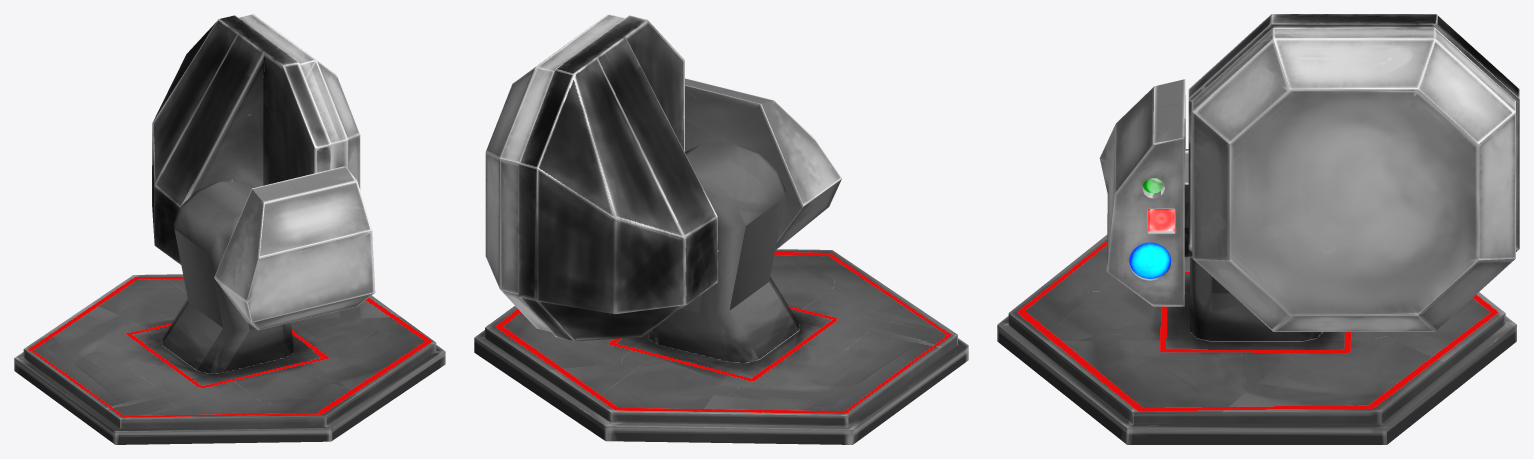
Rendered from antenna.fbx.
3 views of the same model, side by side, from view 1: azimuth 30°, elevation 25°; view 2: azimuth 150°, elevation 25°; view 3: azimuth 270°, elevation 25° (orthographic). The views are drawn at different scales.
Visible parts, largest first — view 1: Cube.001, Cube; view 2: Cube, Cube.001; view 3: Cube, Cube.001.
Boxes of the visible parts, x1,y1,x2,y2 form: Cube.001: (14,181,445,444); Cube: (152,14,375,330); Cube: (485,14,841,341); Cube.001: (474,142,968,444); Cube: (1099,14,1519,331); Cube.001: (997,235,1516,444).
Bounding box in the file's own units: 303 × 248 × 323.
